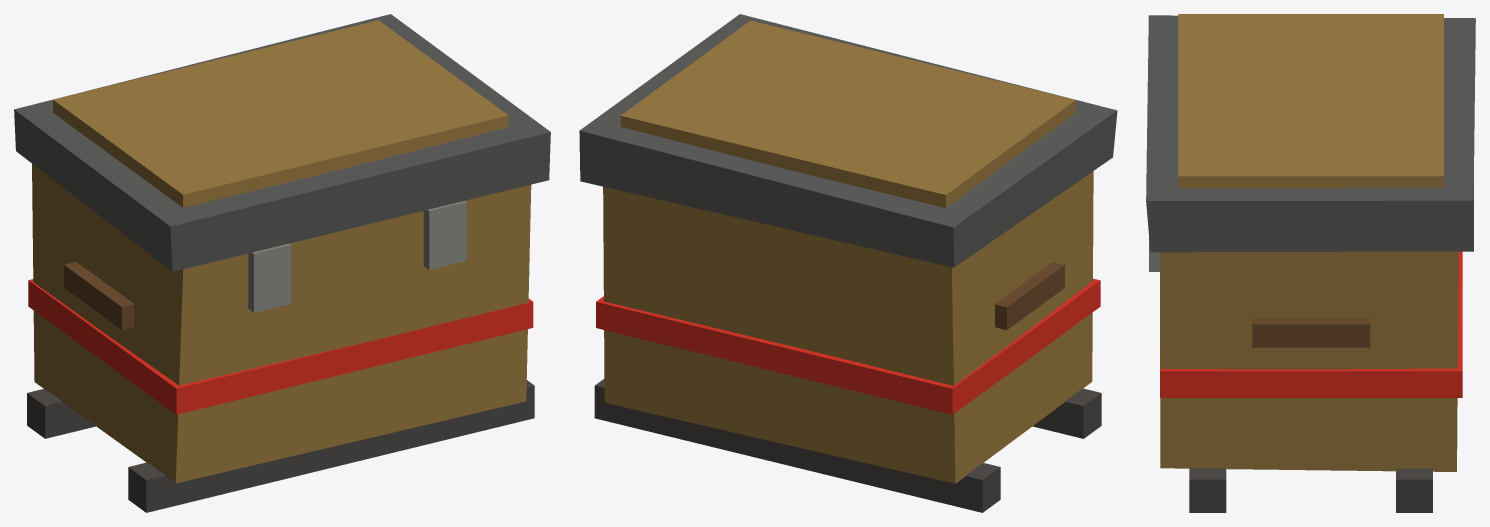
The model's file is store_locker.glb.
The picture shows the model from 3 angles, left to right: view 1: azimuth 30°, elevation 25°; view 2: azimuth 150°, elevation 25°; view 3: azimuth 270°, elevation 25°; orthographic projection. The views are drawn at different scales.
Parts seen in each view (by area): view 1: store_locker; view 2: store_locker; view 3: store_locker.
Part boxes in pixels (box(x1,y1,x2,y2)): store_locker: box(14, 14, 550, 512); store_locker: box(579, 14, 1117, 512); store_locker: box(1146, 14, 1475, 512).
Bounding box in the file's own units: 0.62 × 0.48 × 0.4467.
